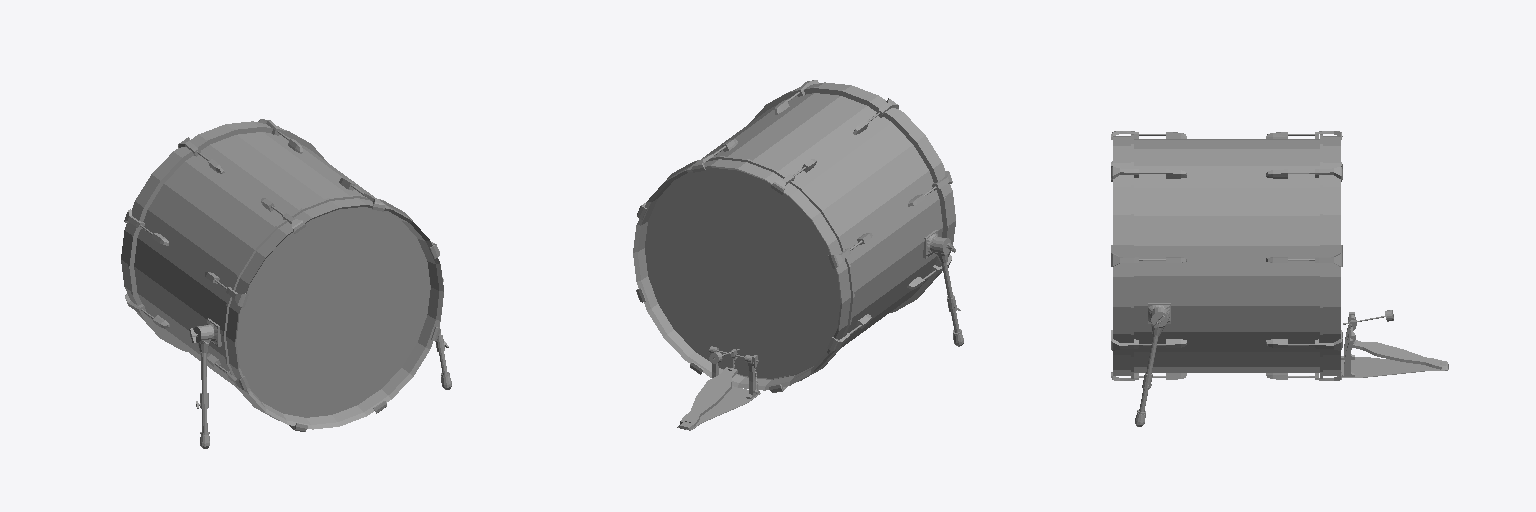
The model's file is bass_drum_OBJ.obj.
3 renders of one model, left to right at view 1: azimuth 30°, elevation 25°; view 2: azimuth 150°, elevation 25°; view 3: azimuth 270°, elevation 25°, orthographic.
Visible parts, largest first — view 1: bass_drum_LOW_Cylinder.013; view 2: bass_drum_LOW_Cylinder.013; view 3: bass_drum_LOW_Cylinder.013.
Part boxes in pixels (left/top/right/bottom): bass_drum_LOW_Cylinder.013: left=121, top=119, right=451, bottom=448; bass_drum_LOW_Cylinder.013: left=633, top=80, right=963, bottom=430; bass_drum_LOW_Cylinder.013: left=1111, top=131, right=1448, bottom=426.
Bounding box in the file's own units: 71.52 × 60.64 × 83.1.